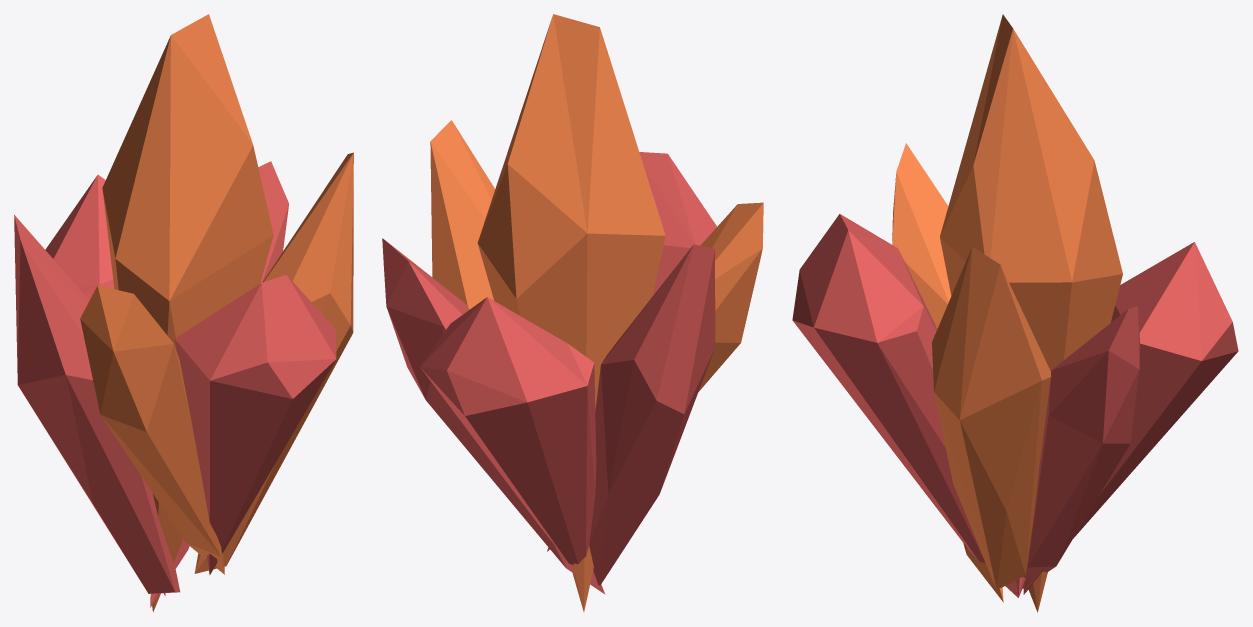
Rendered from jewel_orange_nomal.fbx.
3 renders of one model, left to right at view 1: azimuth 30°, elevation 25°; view 2: azimuth 150°, elevation 25°; view 3: azimuth 270°, elevation 25°, orthographic. The views are drawn at different scales.
Visible parts, largest first — view 1: Cube.002; view 2: Cube.002; view 3: Cube.002.
Boxes of the visible parts, left/top/right/bottom form: Cube.002: left=14, top=14, right=353, bottom=612; Cube.002: left=382, top=14, right=763, bottom=611; Cube.002: left=792, top=14, right=1238, bottom=612.
Bounding box in the file's own units: 347 × 638 × 425.
